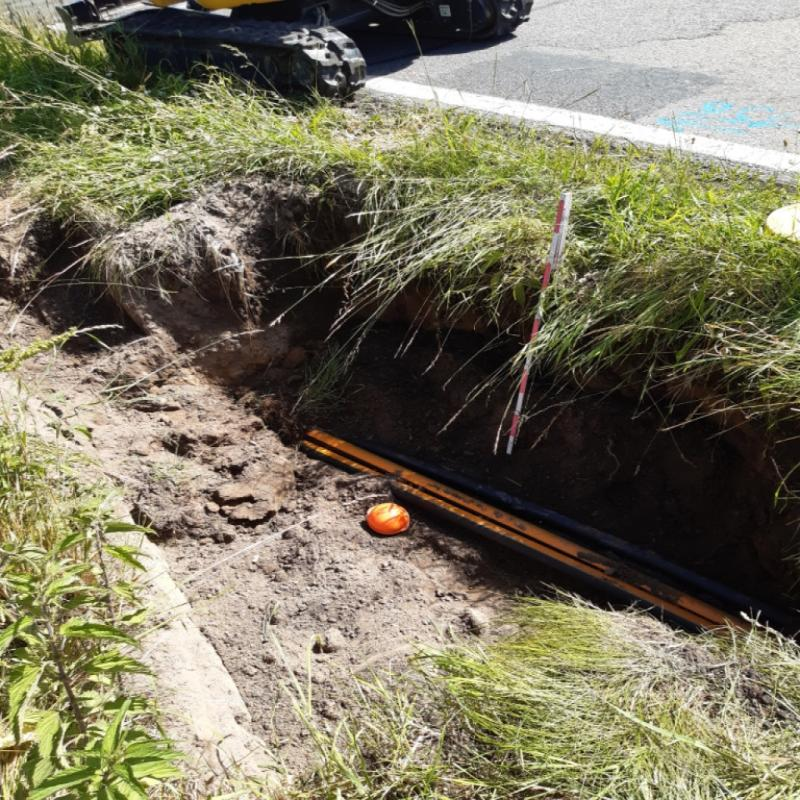Kugelmarker: (367, 504, 409, 535)
Orang-Speednetrohrchen: (302, 428, 744, 630)
